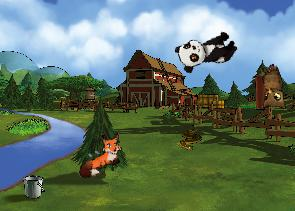fox: (69, 128, 130, 181)
owl: (249, 62, 291, 115)
panda: (173, 26, 240, 75)
